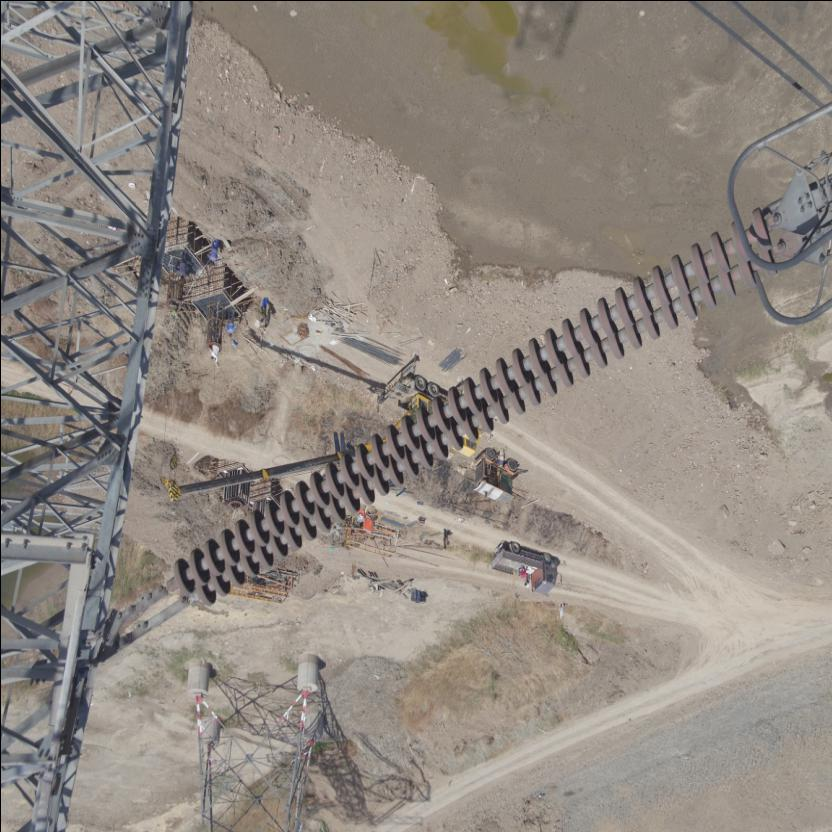insulator: (124, 193, 804, 618)
